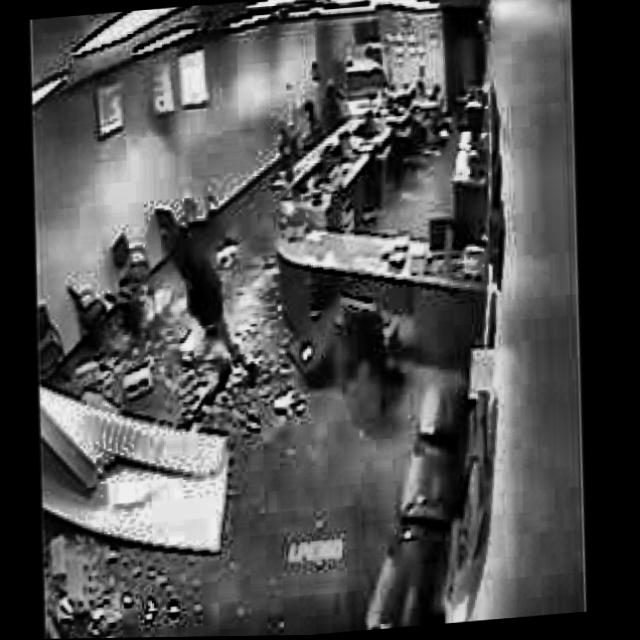burglary: (129, 187, 283, 422), (284, 43, 404, 162)
